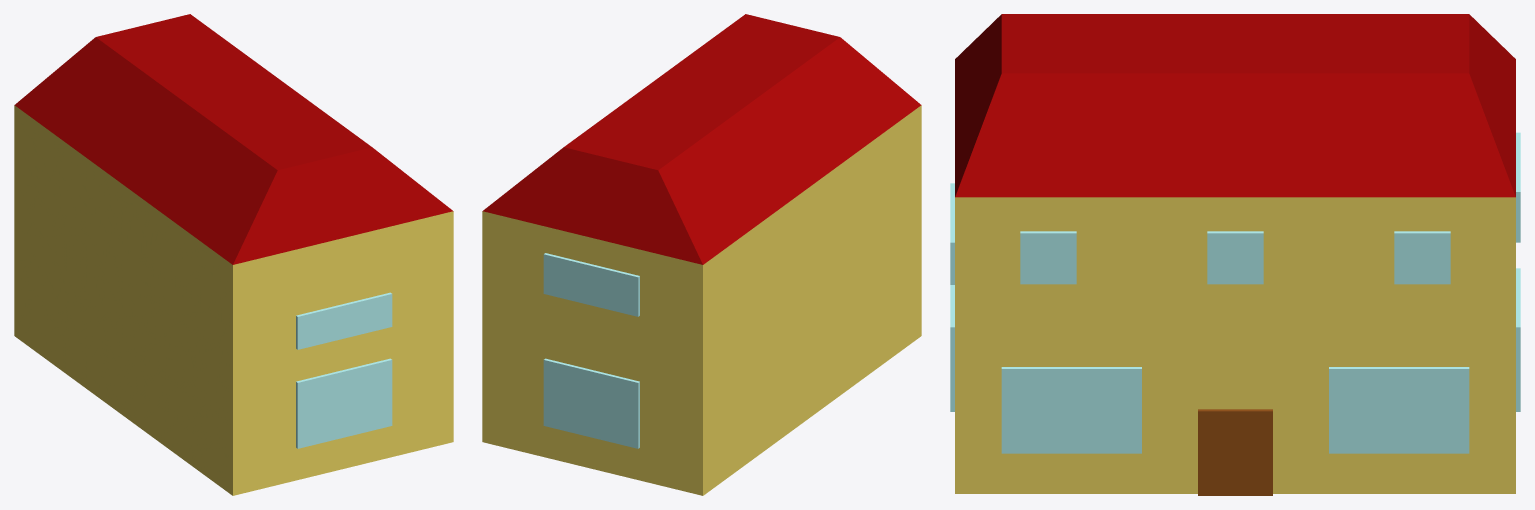
The model's file is spring_house1.fbx.
3 renders of one model, left to right at view 1: azimuth 30°, elevation 25°; view 2: azimuth 150°, elevation 25°; view 3: azimuth 270°, elevation 25°, orthographic. The views are drawn at different scales.
Visible parts, largest first — view 1: Spring_House1; view 2: Spring_House1; view 3: Spring_House1.
Boxes of the visible parts, left/top/right/bottom form: Spring_House1: left=14, top=14, right=453, bottom=495; Spring_House1: left=482, top=14, right=921, bottom=495; Spring_House1: left=950, top=14, right=1520, bottom=495.
Size of the model in its own units: 1065 by 1350 by 1830.
